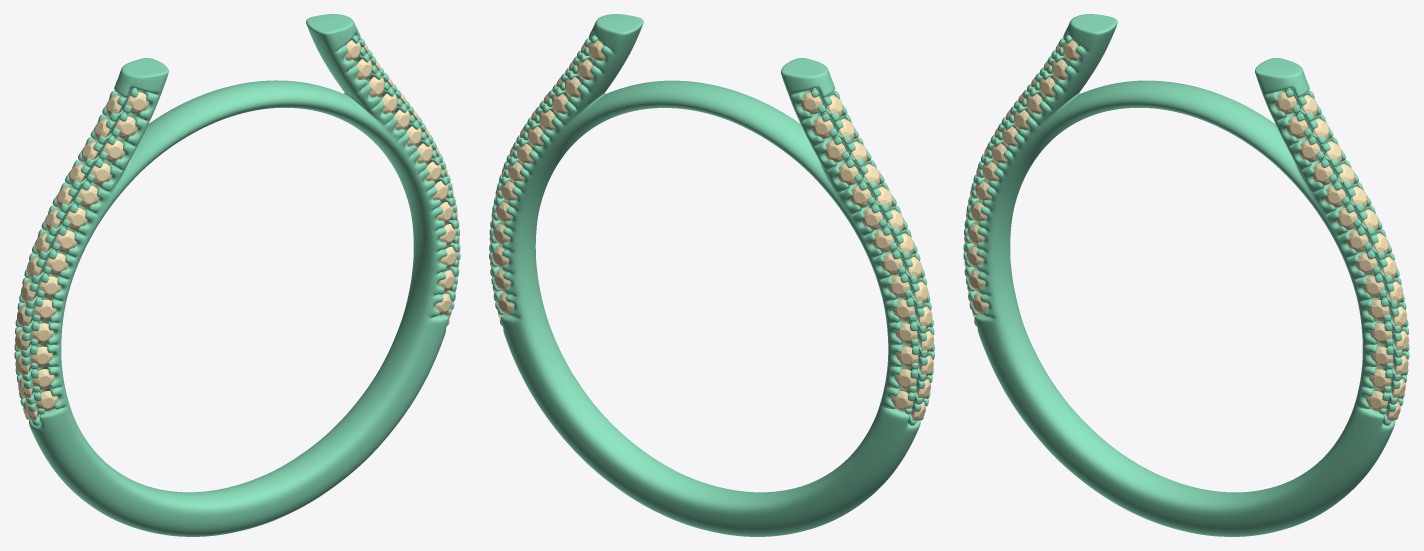
The picture shows the model from 3 angles, left to right: view 1: azimuth 30°, elevation 25°; view 2: azimuth 150°, elevation 25°; view 3: azimuth 330°, elevation 25°; orthographic projection.
Visible parts, largest first — view 1: Metal02; view 2: Metal02; view 3: Metal02.
Boxes of the visible parts, <box> form: Metal02: <box>14,14,460,536</box>; Metal02: <box>489,14,934,536</box>; Metal02: <box>963,14,1409,536</box>.
Size of the model in its own units: 20.91 by 22.07 by 1.86.
